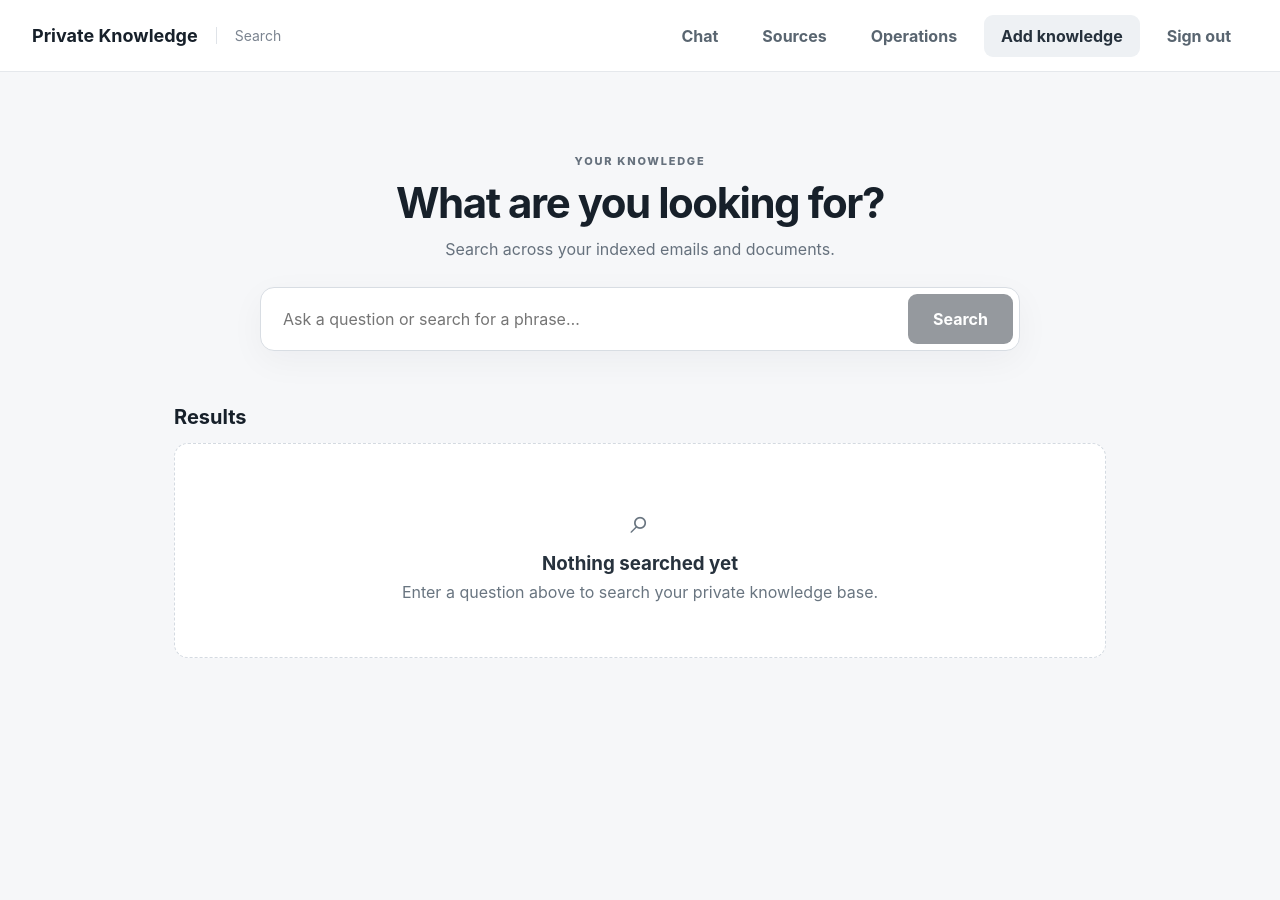
Scenario: App › searches through the gateway API
The width and height of the screenshot is (1280, 900).
Type "renewal" into the field named "Search query" at (588, 319), box [267,294,908,344]
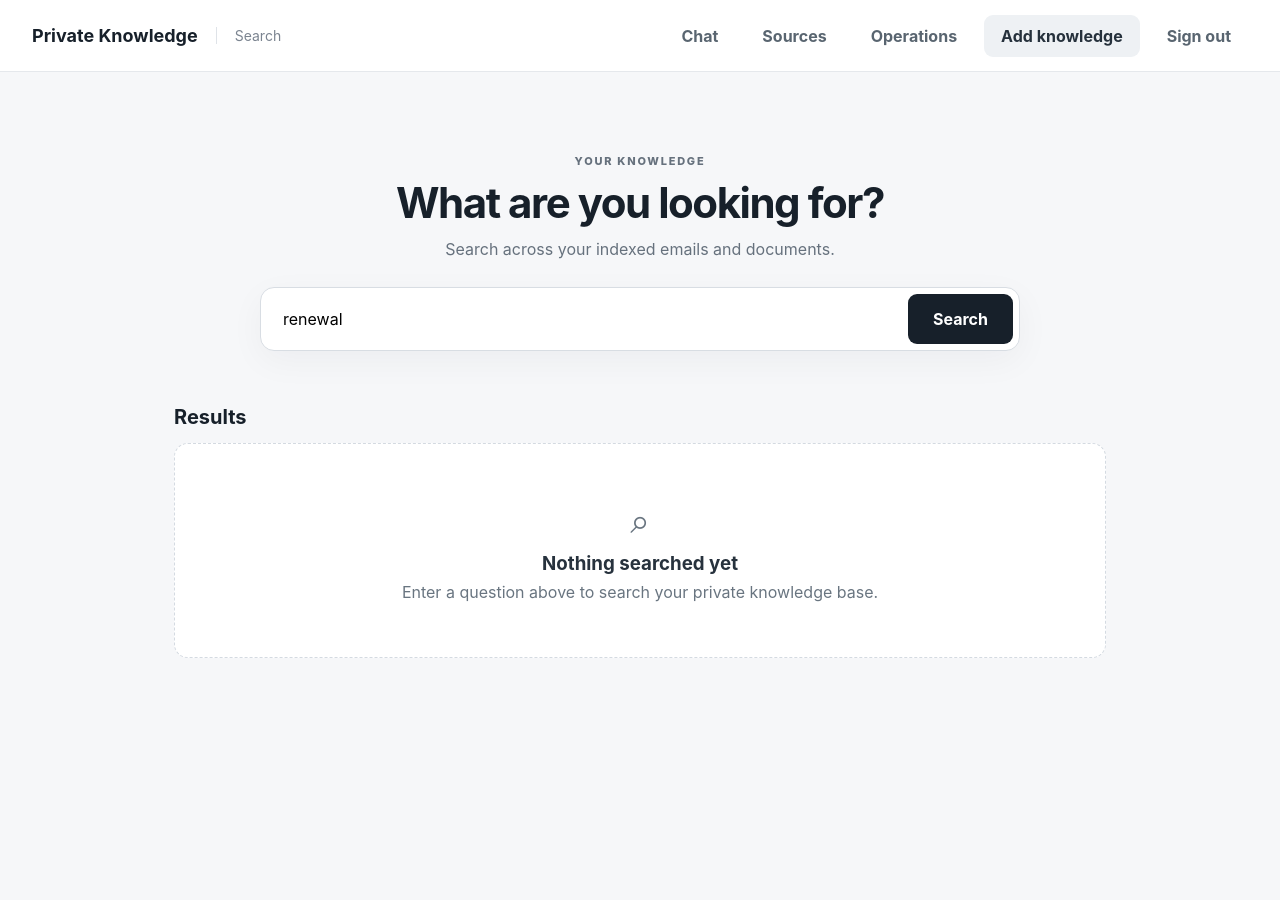
Click the button "Search" at (960, 319), box [908,294,1013,344]
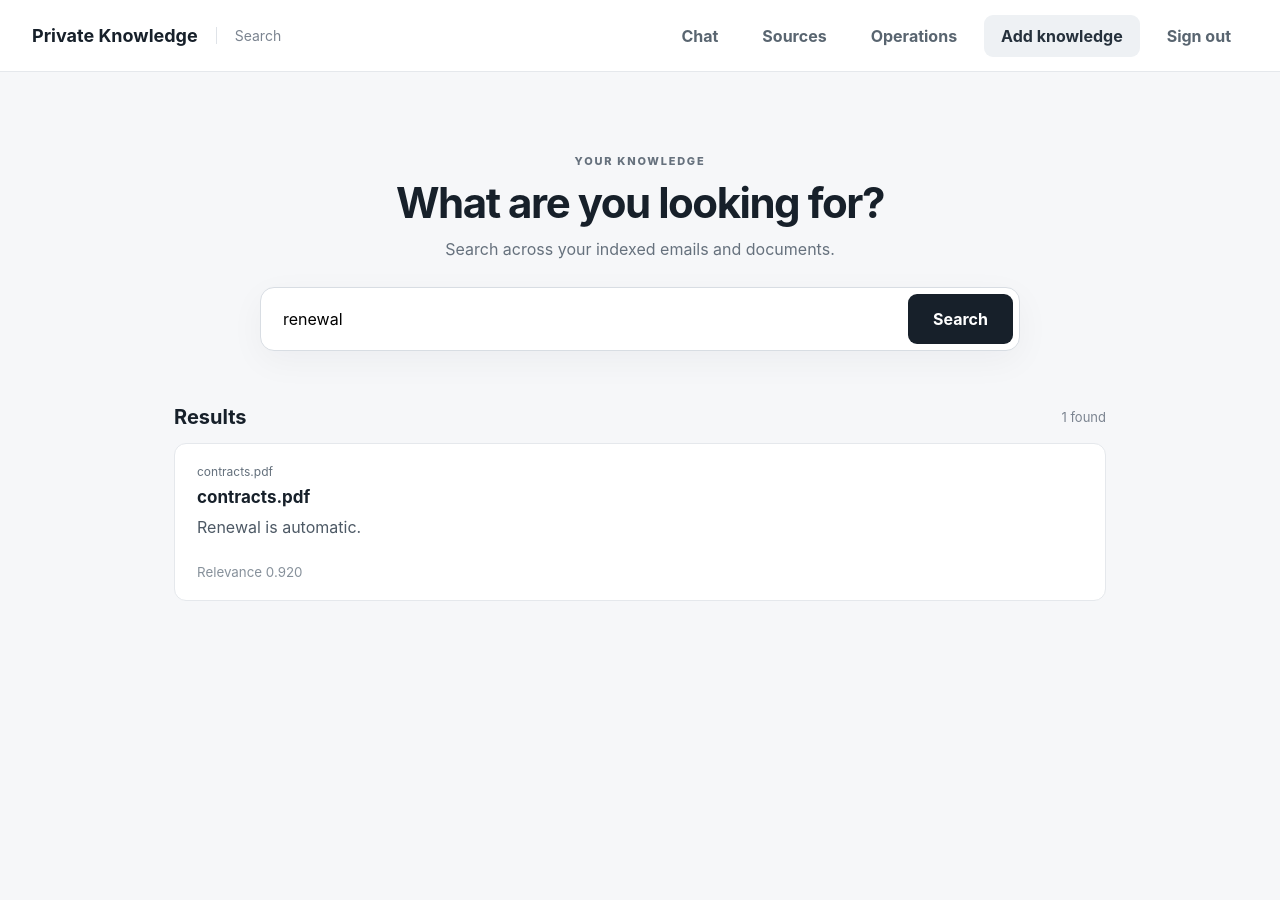
Result: the text "Renewal is automatic." is shown at [197,517,361,537]
